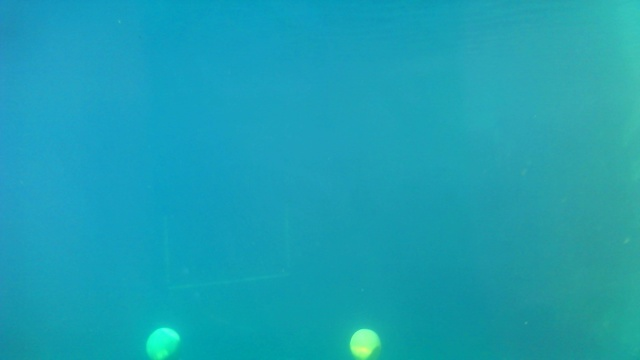channel: (164, 202, 289, 289)
